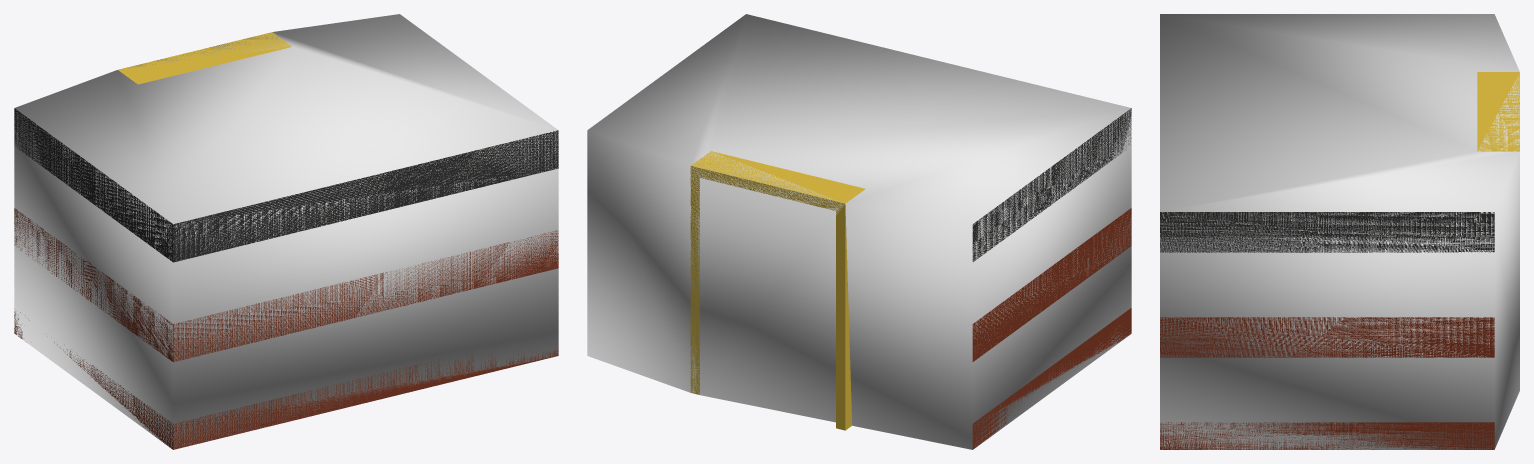
3 views of the same model, side by side, from view 1: azimuth 30°, elevation 25°; view 2: azimuth 150°, elevation 25°; view 3: azimuth 270°, elevation 25° (orthographic). The views are drawn at different scales.
Visible parts, largest first — view 1: struct_city_block_low_tier2_b_01_col, struct_city_block_low_tier2_b_01; view 2: struct_city_block_low_tier2_b_01_col, struct_city_block_low_tier2_b_01; view 3: struct_city_block_low_tier2_b_01_col, struct_city_block_low_tier2_b_01.
Part boxes in pixels (x1,y1,x2,y2): struct_city_block_low_tier2_b_01_col: (14, 14, 558, 449); struct_city_block_low_tier2_b_01: (14, 32, 558, 449); struct_city_block_low_tier2_b_01_col: (587, 14, 1131, 449); struct_city_block_low_tier2_b_01: (690, 108, 1131, 449); struct_city_block_low_tier2_b_01_col: (1160, 14, 1519, 449); struct_city_block_low_tier2_b_01: (1160, 72, 1519, 449).
Size of the model in its own units: 10.14 by 5.71 by 7.78.
1 material, 1 textured.
